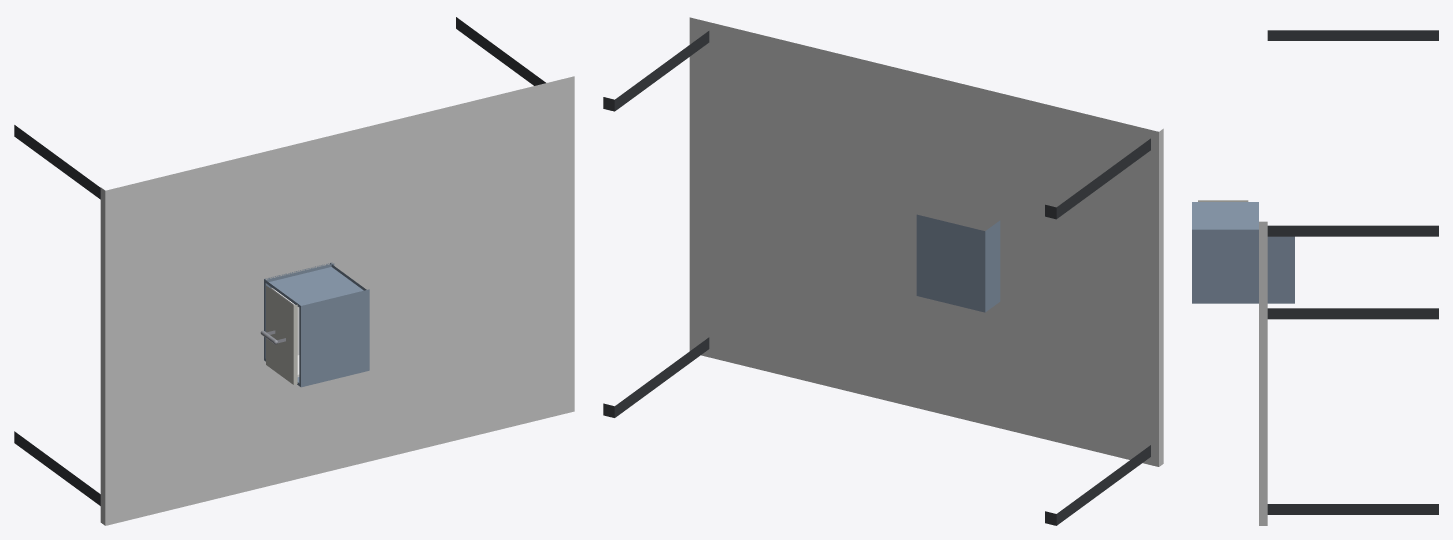
3 renders of one model, left to right at view 1: azimuth 30°, elevation 25°; view 2: azimuth 150°, elevation 25°; view 3: azimuth 270°, elevation 25°, orthographic. The views are drawn at different scales.
Parts seen in each view (by area): view 1: s0, s1, s2; view 2: s0, s1; view 3: s0, s1.
Part boxes in pixels (left/top/right/bottom): s0: left=14, top=17, right=574, bottom=525; s1: left=264, top=262, right=369, bottom=387; s2: left=260, top=285, right=299, bottom=384; s0: left=603, top=17, right=1163, bottom=525; s1: left=916, top=214, right=1000, bottom=312; s0: left=1259, top=30, right=1438, bottom=525; s1: left=1192, top=202, right=1294, bottom=303.
Size of the model in its own units: 2.05 by 1.4 by 1.03.
